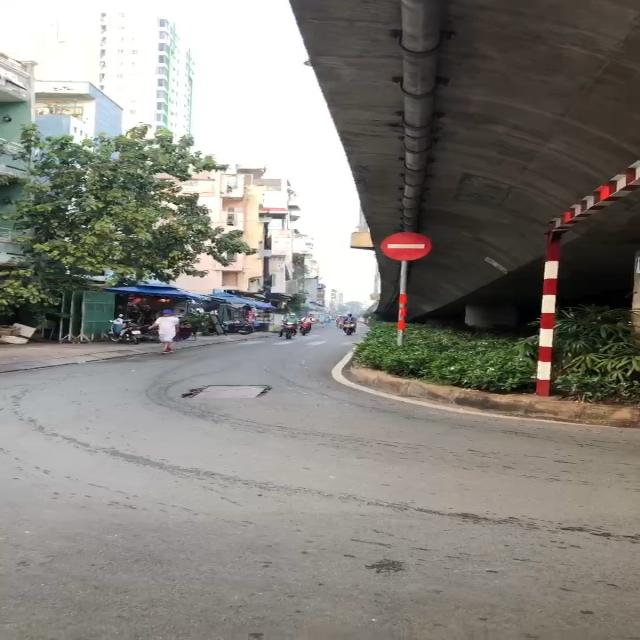Bien bao cam di nguoc chieu: (376, 230, 437, 264)
